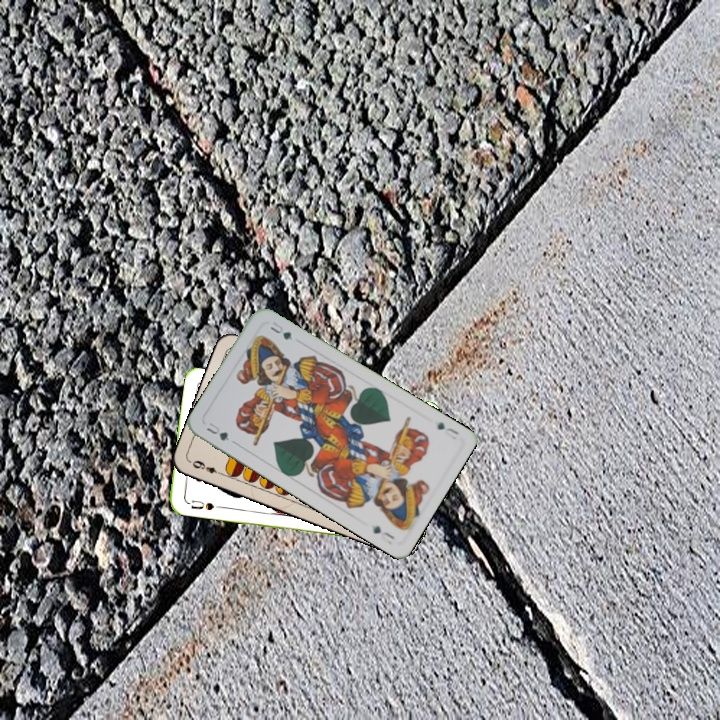E9: (188, 456, 226, 478)
GU: (202, 418, 232, 444), (433, 418, 463, 438)
SU: (182, 496, 216, 513)
